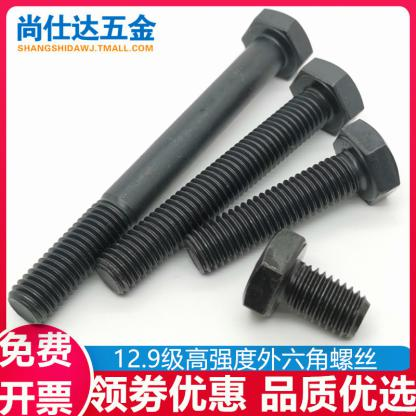FOD: (8, 7, 312, 328), (93, 52, 365, 295), (178, 117, 400, 276), (242, 227, 372, 341)
